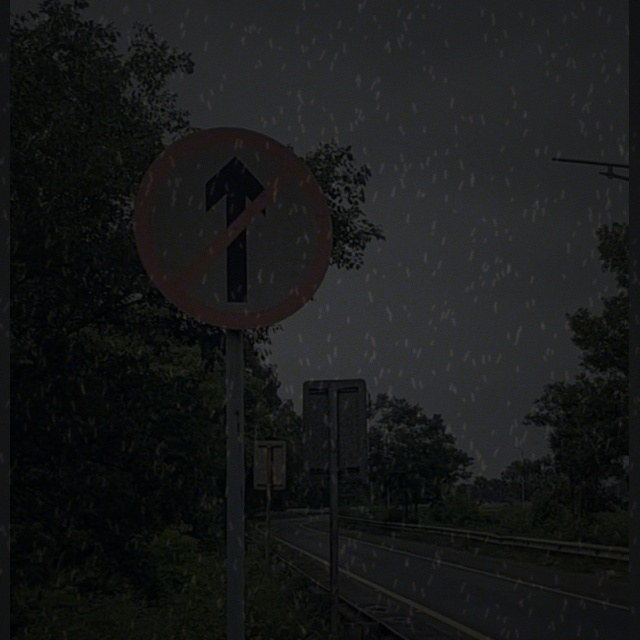No_Entry: (134, 132, 332, 328)
